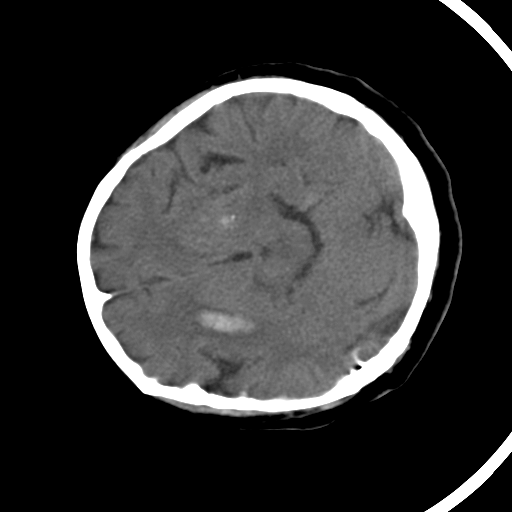a: (177, 293, 271, 349)
